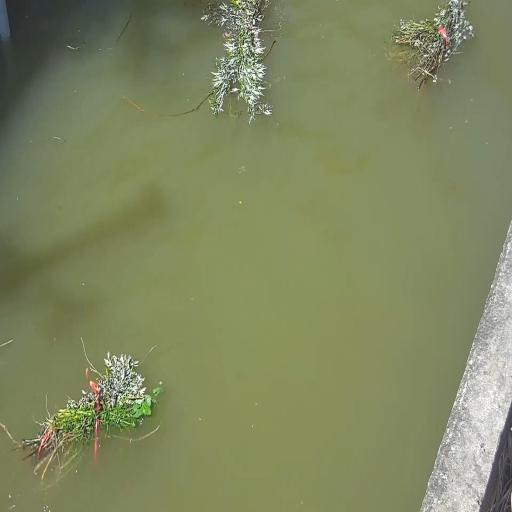twig: (9, 340, 161, 482), (125, 3, 277, 122), (389, 2, 474, 92)
